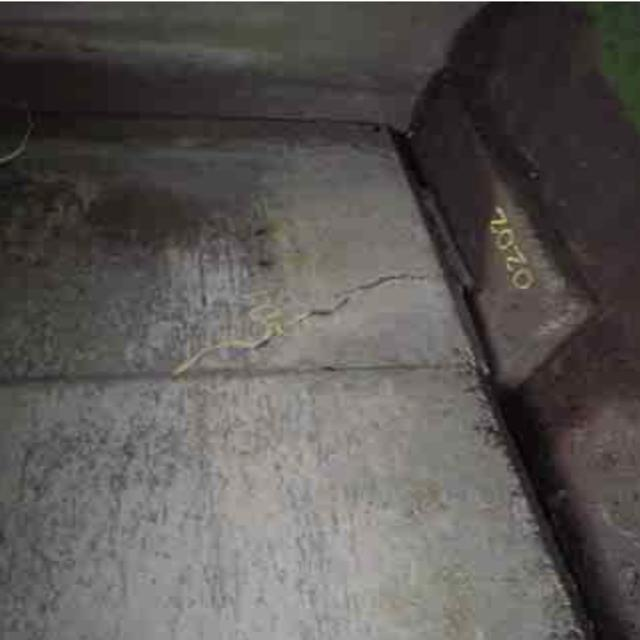crack: (180, 271, 456, 373)
